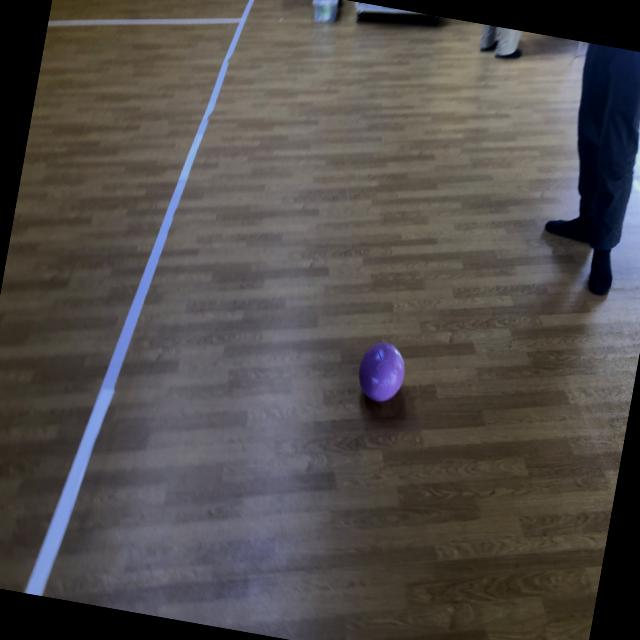purple_ball: (352, 338, 409, 405)
